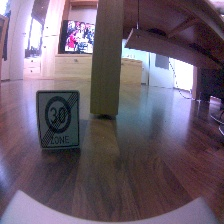dreisiger_zone_ende: (34, 88, 81, 152)
